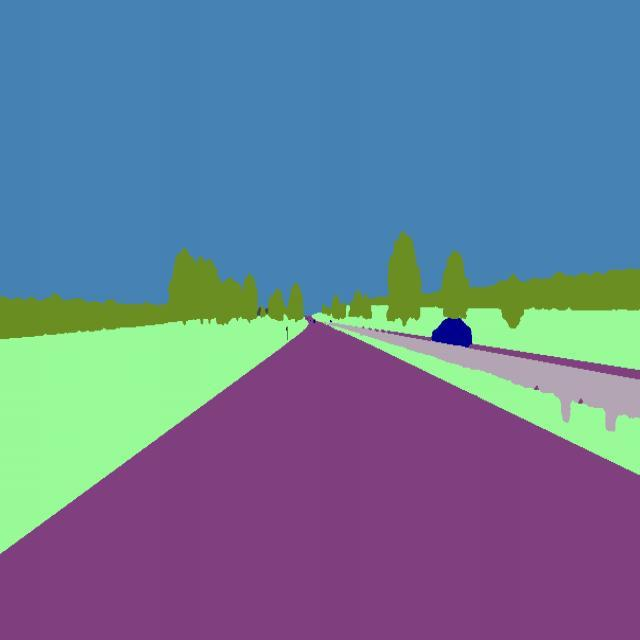safe: (431, 314, 474, 352)
